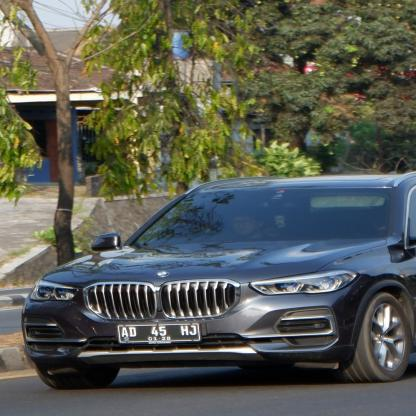Plat-Nomor: (112, 322, 204, 344)
